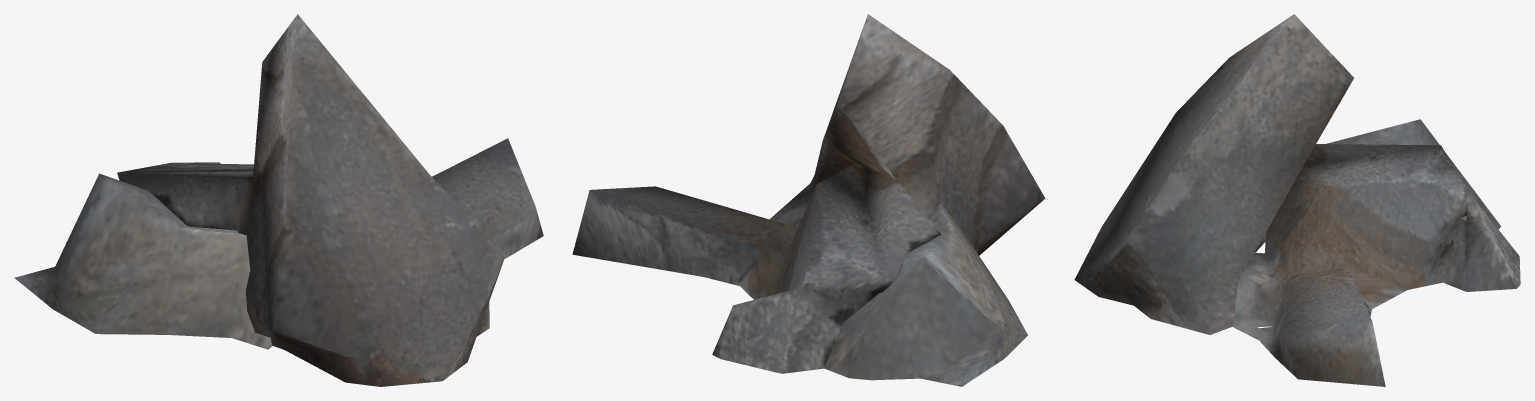
The model's file is forest_rock_02.glb.
3 views of the same model, side by side, from view 1: azimuth 30°, elevation 25°; view 2: azimuth 150°, elevation 25°; view 3: azimuth 270°, elevation 25° (orthographic). The views are drawn at different scales.
Parts seen in each view (by area): view 1: Rocks.001_Rocks_0; view 2: Rocks.001_Rocks_0; view 3: Rocks.001_Rocks_0.
Part boxes in pixels (left/top/right/bottom): Rocks.001_Rocks_0: left=14, top=14, right=543, bottom=386; Rocks.001_Rocks_0: left=572, top=14, right=1045, bottom=386; Rocks.001_Rocks_0: left=1074, top=14, right=1520, bottom=386.
Bounding box in the file's own units: 1.16 × 0.7 × 1.08.
1 material, 1 textured.
